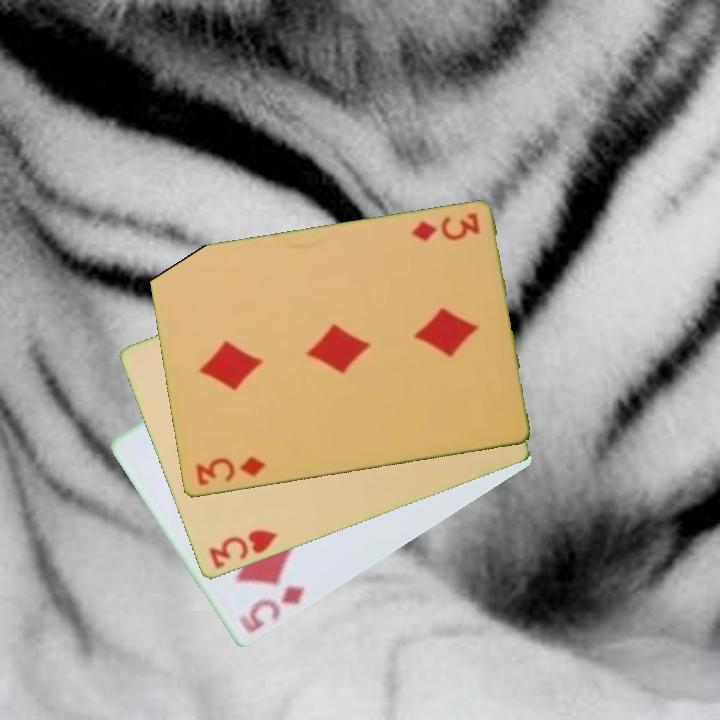3d: (192, 453, 268, 489), (407, 209, 482, 245)
3h: (205, 526, 280, 572)
5d: (235, 582, 308, 637)
